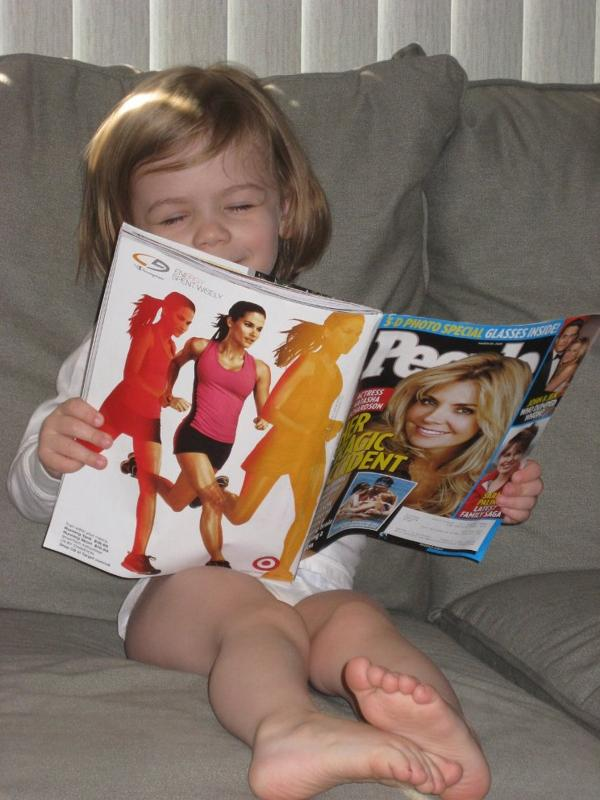person: (10, 67, 544, 800)
